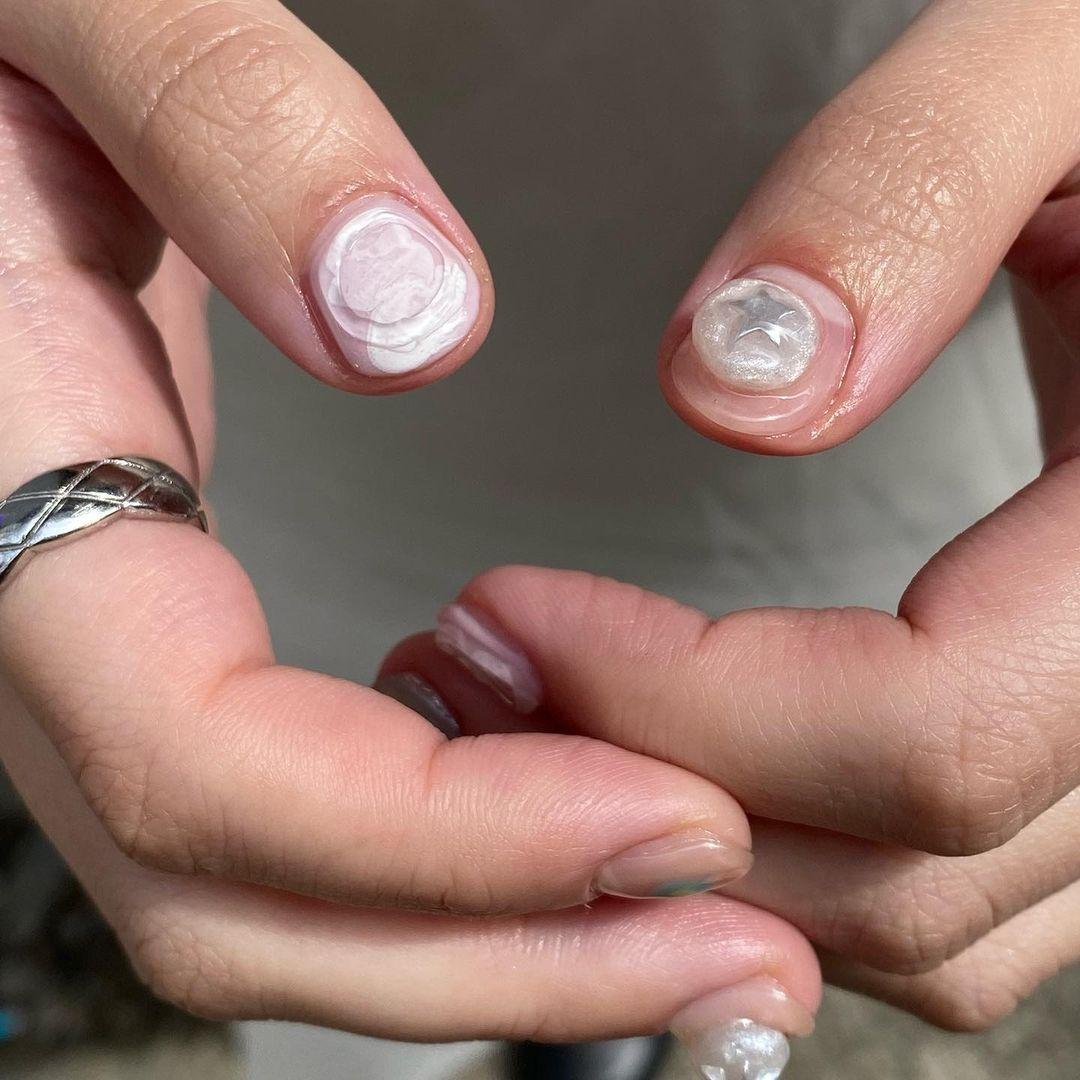nail: (659, 259, 857, 442), (302, 188, 480, 381), (671, 975, 820, 1079), (593, 820, 755, 900), (434, 603, 540, 711)
